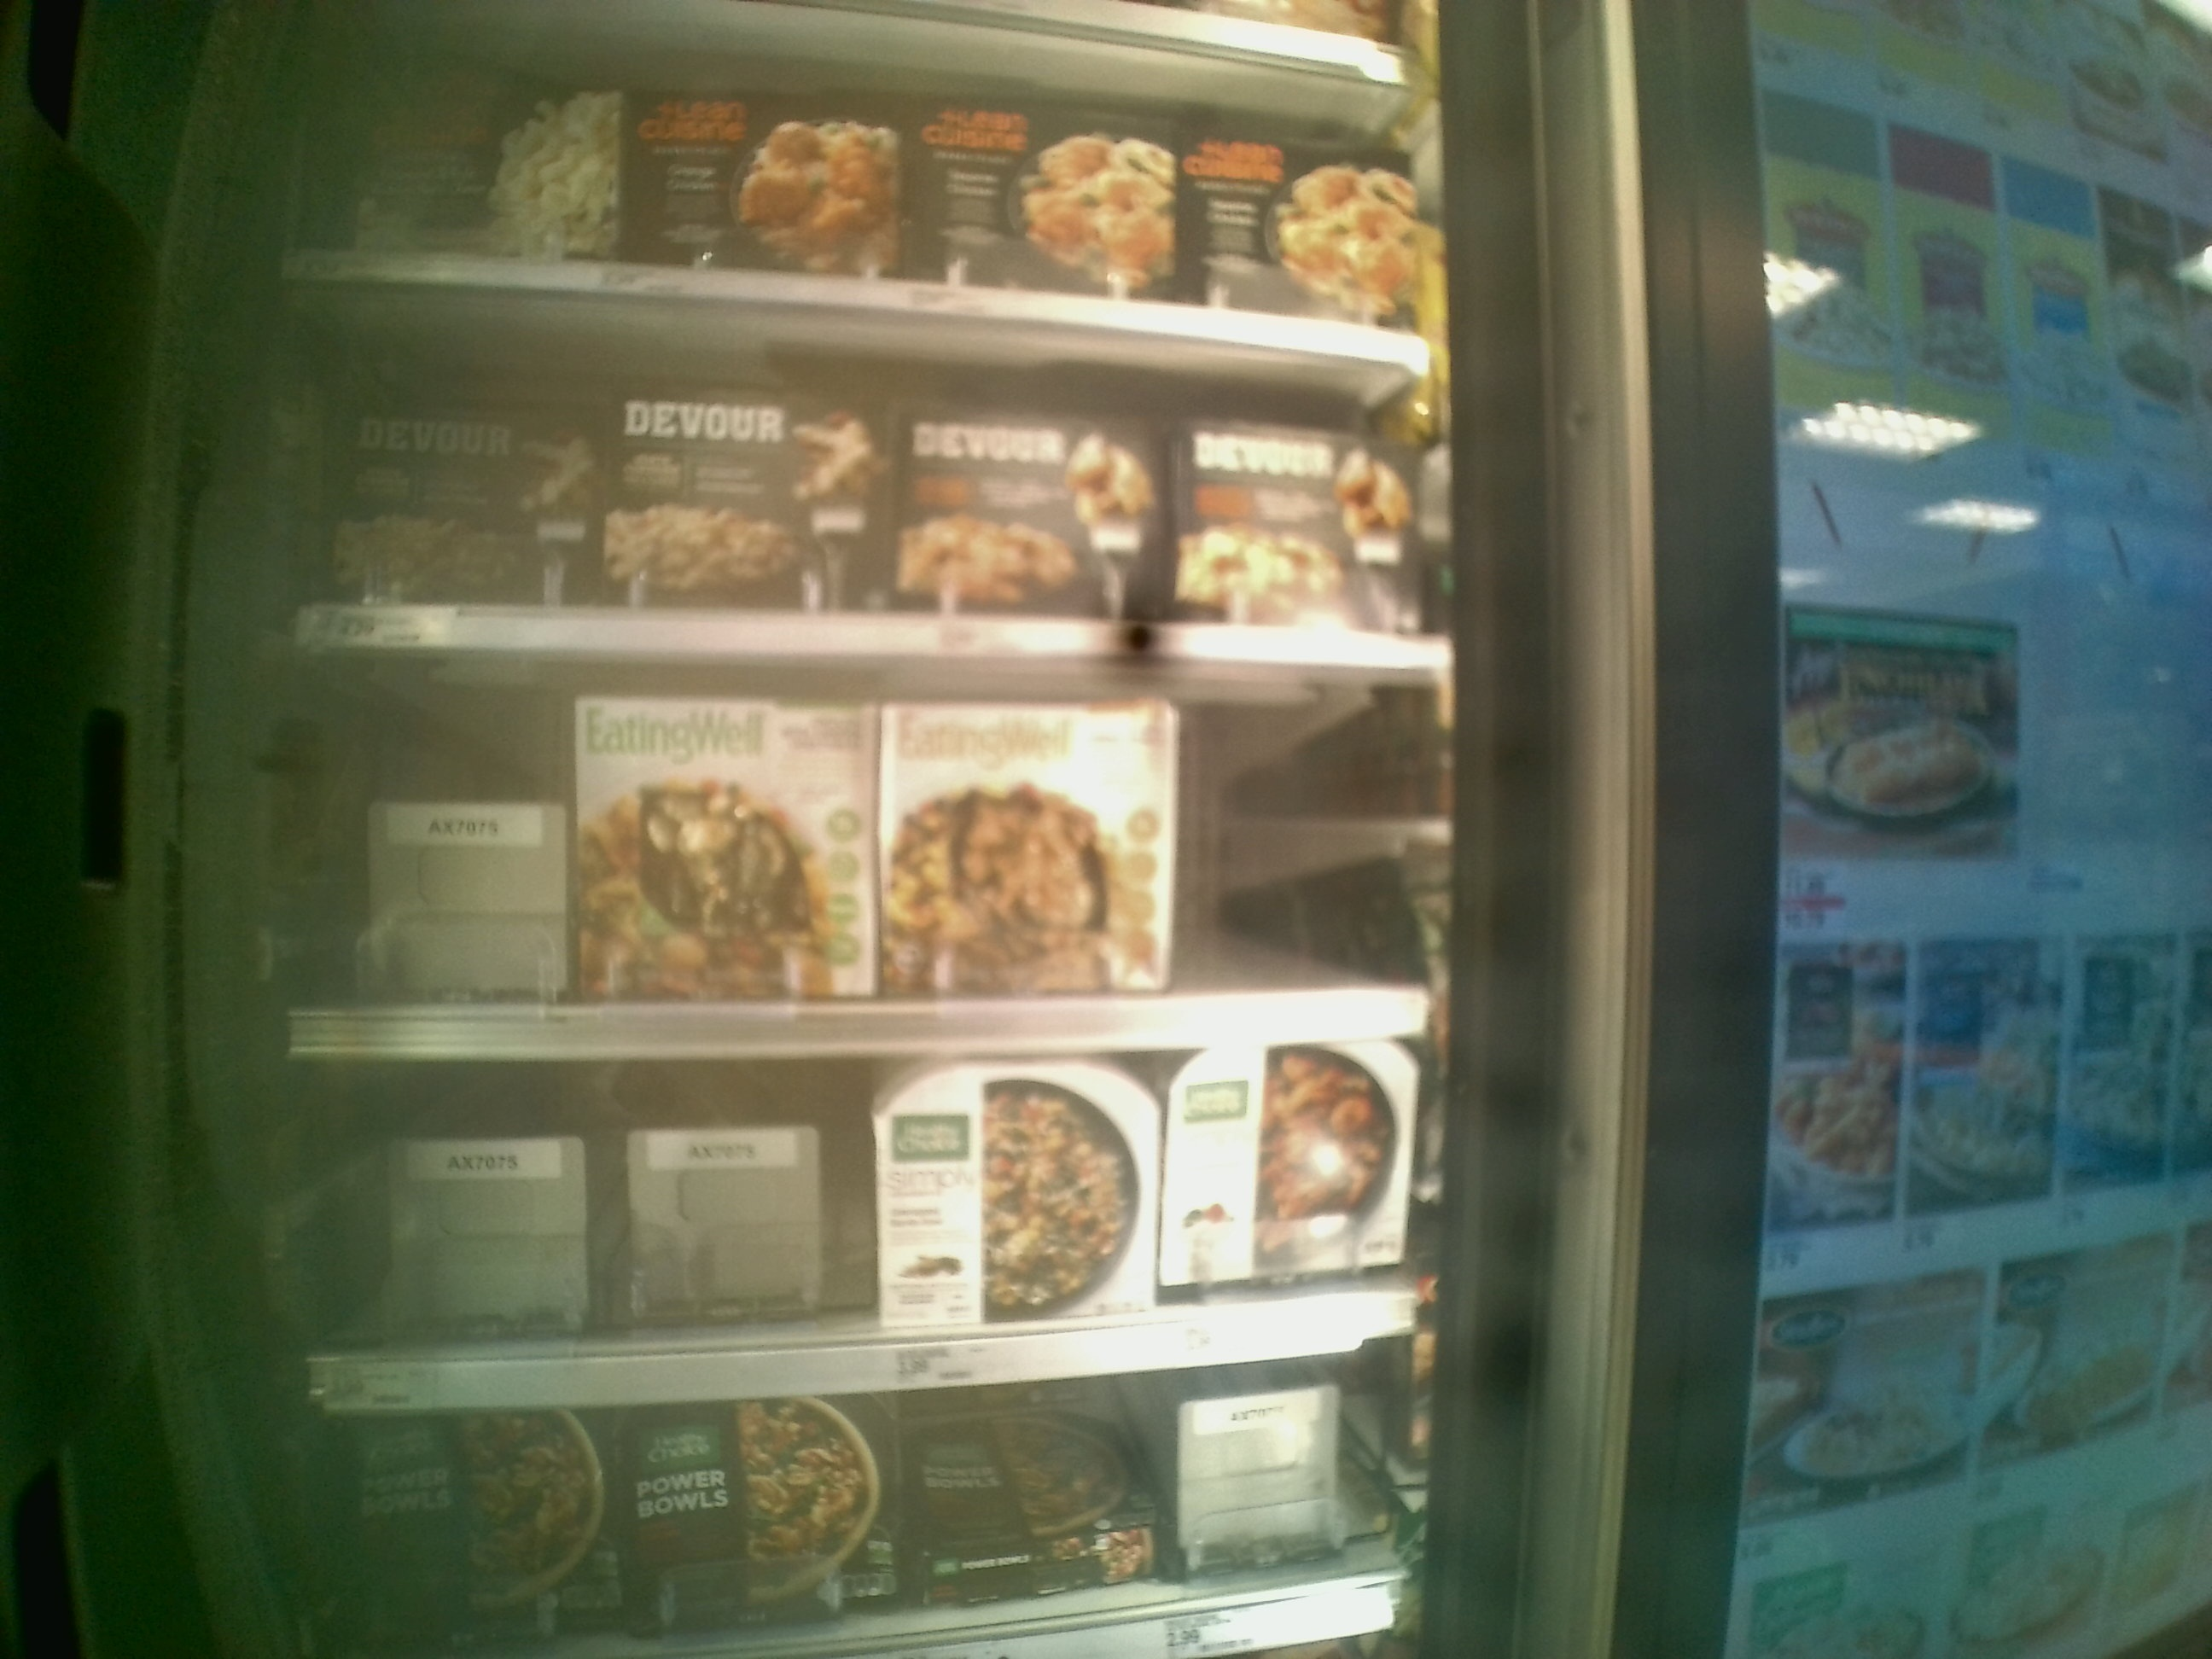shelf: (273, 272, 1440, 664), (301, 647, 1430, 1040), (289, 1053, 1451, 1417)
